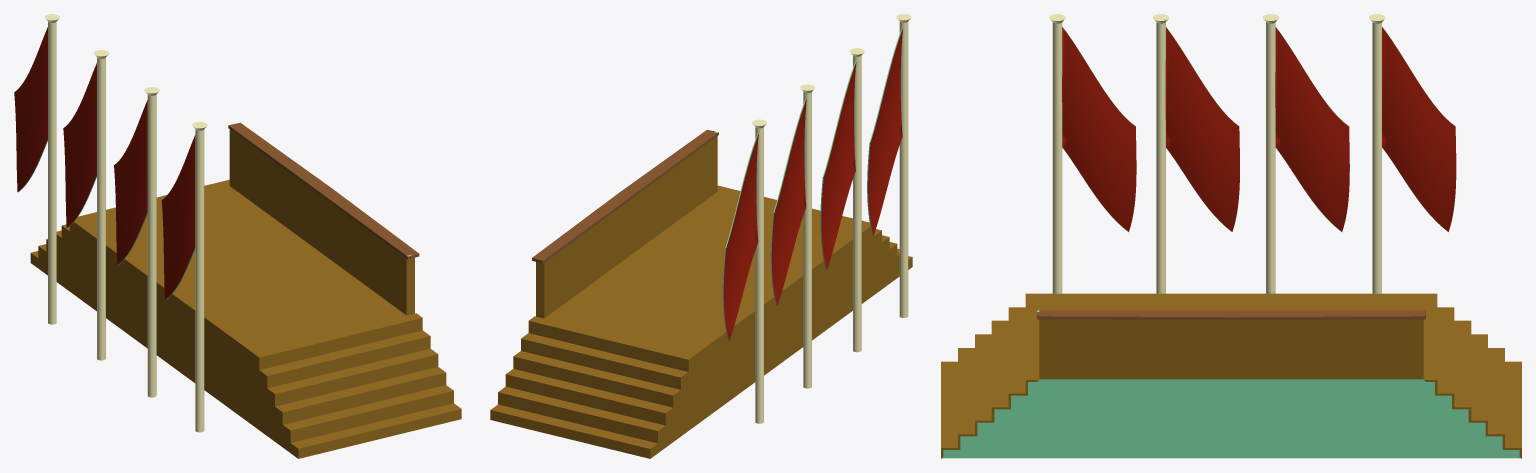
The model's file is Сцена.fbx.
The picture shows the model from 3 angles, left to right: view 1: azimuth 30°, elevation 25°; view 2: azimuth 150°, elevation 25°; view 3: azimuth 270°, elevation 25°; orthographic projection. The views are drawn at different scales.
Parts seen in each view (by area): view 1: Cцена; view 2: Cцена; view 3: Cцена.
Part boxes in pixels (x1=…): Cцена: x1=14, y1=14, x2=461, y2=458; Cцена: x1=490, y1=14, x2=912, y2=458; Cцена: x1=941, y1=14, x2=1521, y2=458.
Size of the model in its own units: 979 by 1309 by 2080.
